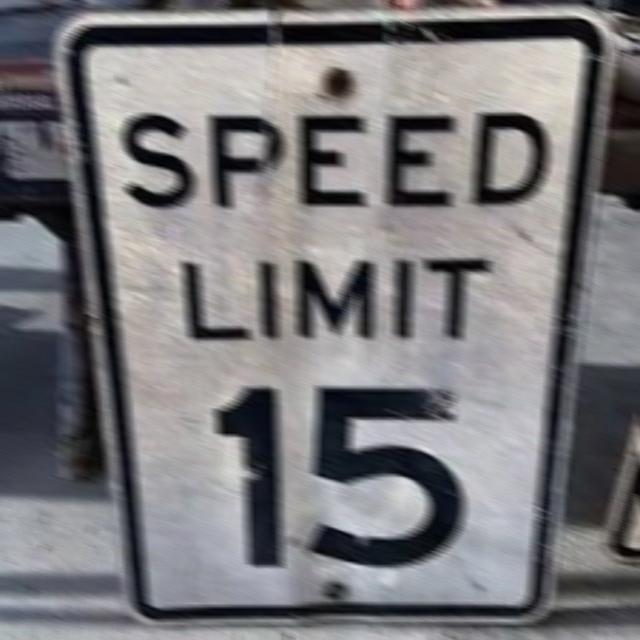speedLimit15: (50, 21, 613, 633)
